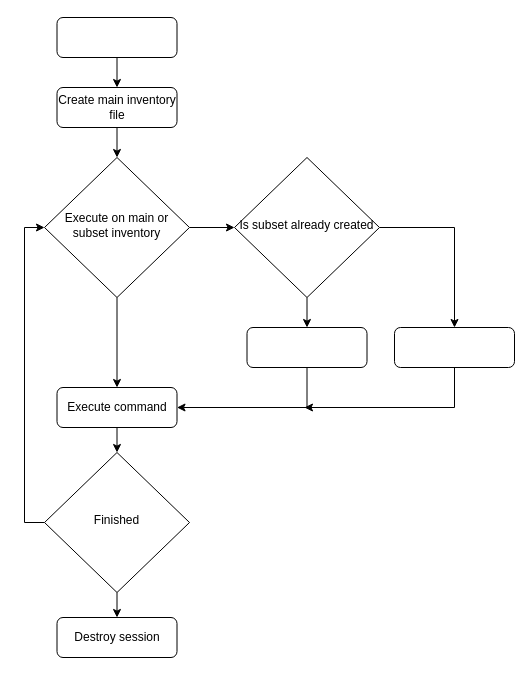
Some shapes in this 532 by 675 pixel diagram are drawn without their labels. Here are the shapes that lost their labels. From the top down, the box of each, then its label:
(56, 16, 177, 58): Start session
(246, 326, 367, 368): Find inventory subset
(394, 326, 514, 368): Create subset inventory file
